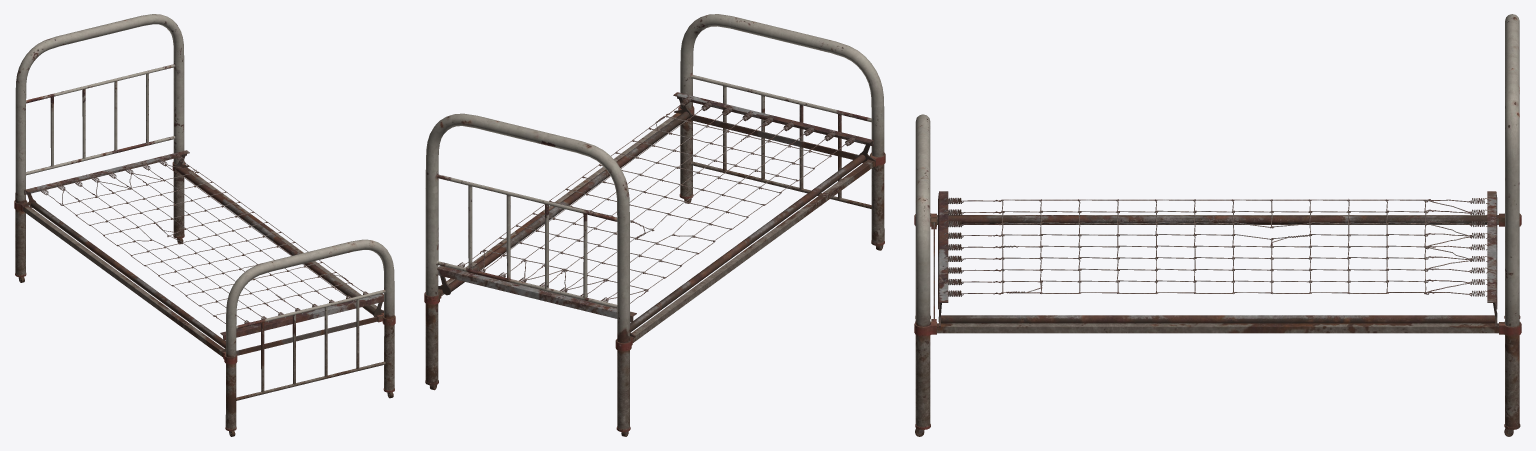
Rendered from prop_old_bed_frame.glb.
3 renders of one model, left to right at view 1: azimuth 30°, elevation 25°; view 2: azimuth 150°, elevation 25°; view 3: azimuth 270°, elevation 25°, orthographic. The views are drawn at different scales.
Visible parts, largest first — view 1: old_bed_frame; view 2: old_bed_frame; view 3: old_bed_frame.
Part boxes in pixels (left/top/right/bottom): old_bed_frame: left=14, top=14, right=395, bottom=436; old_bed_frame: left=424, top=14, right=885, bottom=436; old_bed_frame: left=914, top=14, right=1521, bottom=436.
Bounding box in the file's own units: 0.9047 × 1.2 × 2.
Materials: 1 (1 with a texture image).
